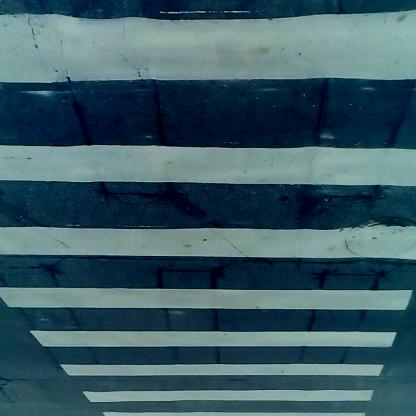crosswalk: (5, 1, 408, 416)
